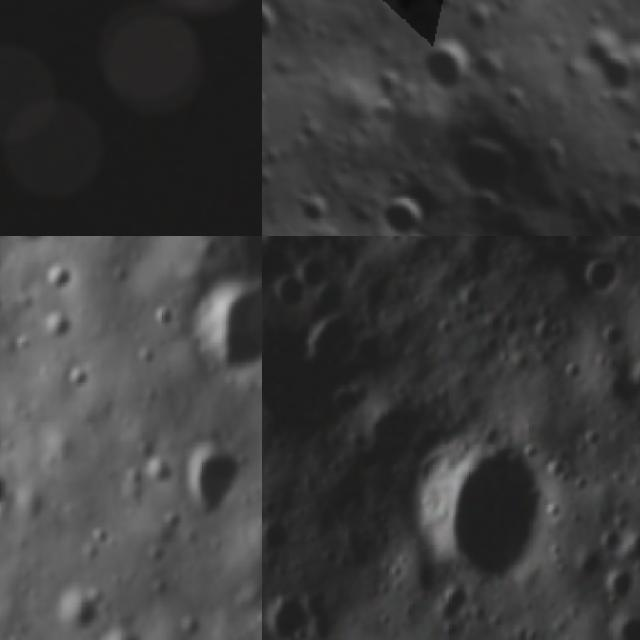crater: (408, 427, 561, 587), (262, 314, 369, 439), (432, 121, 537, 216), (177, 270, 262, 383), (175, 428, 259, 522), (404, 29, 482, 113), (47, 581, 107, 640), (224, 511, 262, 600), (265, 592, 320, 640), (590, 186, 640, 236), (377, 188, 429, 236), (40, 247, 84, 303), (578, 249, 624, 300), (35, 303, 79, 354), (140, 446, 183, 496), (58, 357, 100, 403), (599, 566, 640, 607), (370, 0, 436, 23), (262, 516, 299, 556), (314, 280, 351, 318), (268, 274, 308, 309), (0, 236, 61, 258), (92, 617, 150, 640), (599, 319, 636, 353), (593, 526, 629, 560), (599, 611, 640, 640), (262, 0, 289, 44), (148, 300, 178, 339), (0, 457, 19, 513), (0, 497, 18, 542), (134, 342, 158, 373), (628, 352, 640, 405), (625, 525, 640, 566), (563, 359, 585, 384)
